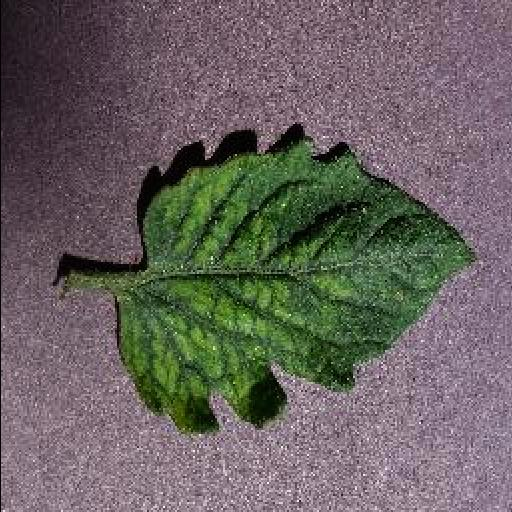disease_tomato: (114, 134, 482, 440)
